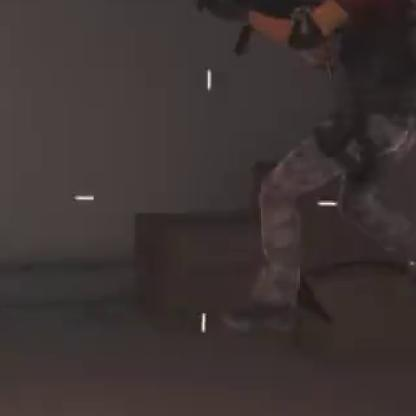enemy: (217, 1, 416, 337)
